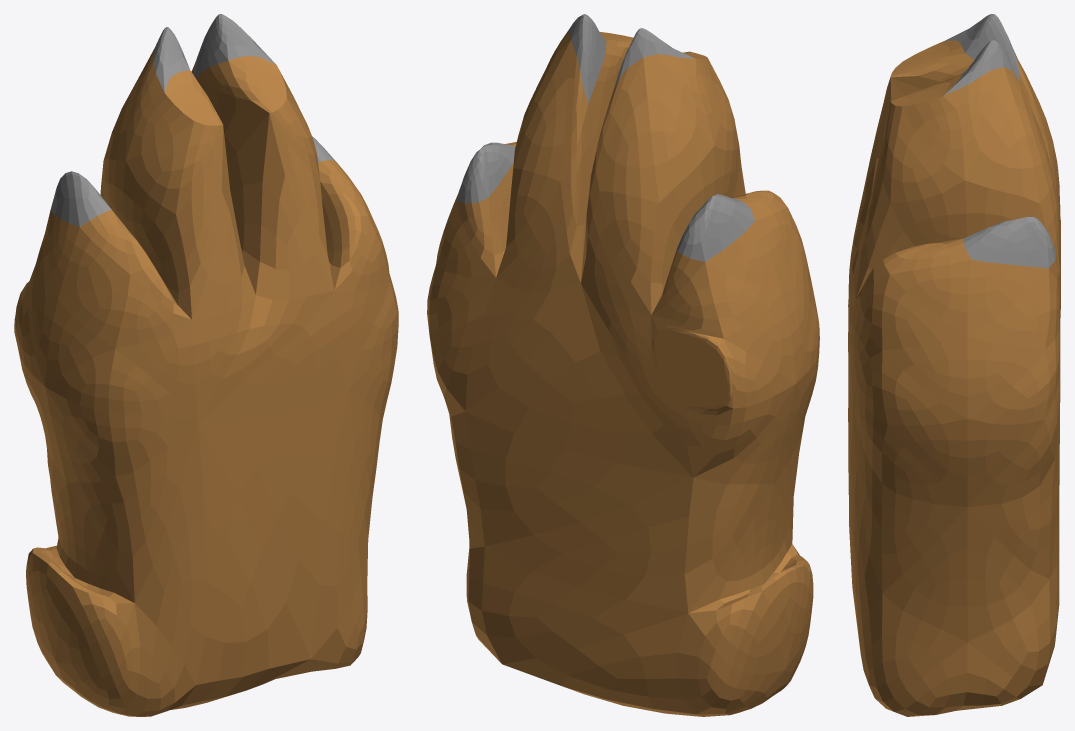
The model's file is paw_NEW.fbx.
3 views of the same model, side by side, from view 1: azimuth 30°, elevation 25°; view 2: azimuth 150°, elevation 25°; view 3: azimuth 270°, elevation 25° (orthographic). The views are drawn at different scales.
Parts seen in each view (by area): view 1: Cube; view 2: Cube; view 3: Cube.
Boxes of the visible parts, left/top/right/bottom form: Cube: left=14, top=14, right=398, bottom=716; Cube: left=427, top=14, right=819, bottom=716; Cube: left=848, top=14, right=1060, bottom=716.
Size of the model in its own units: 334 by 616 by 186.
